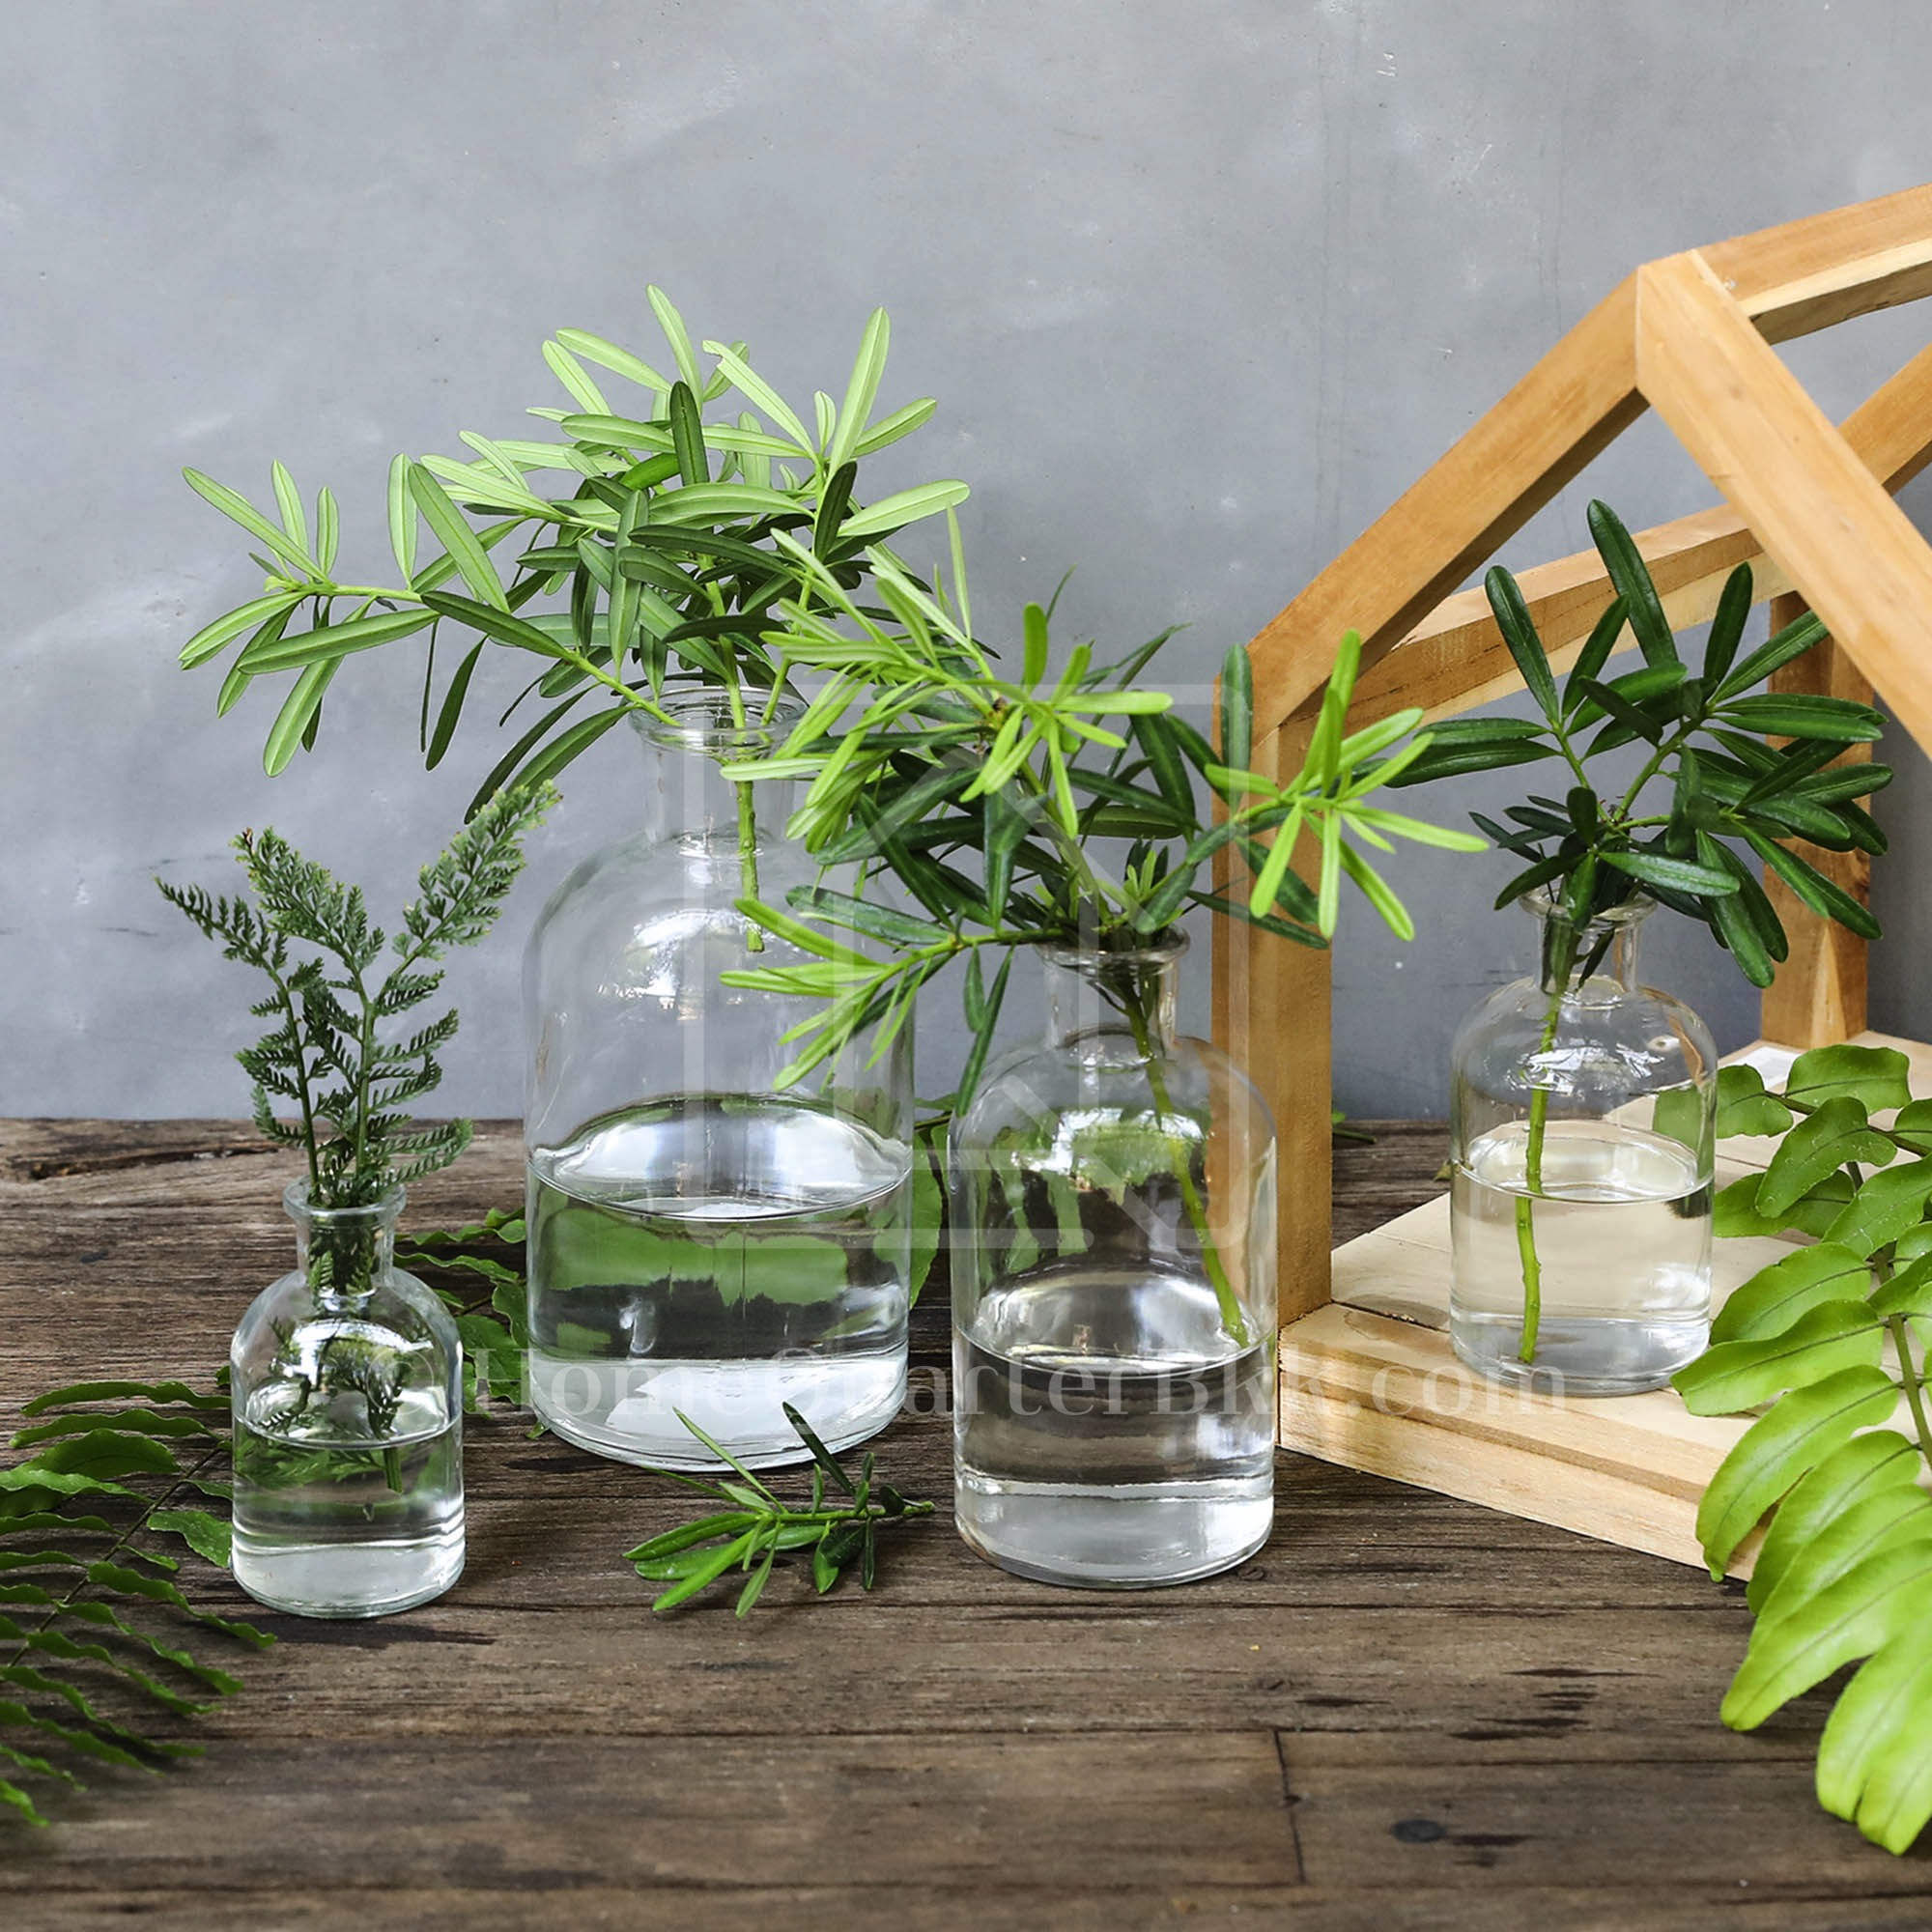glass_bottle: (517, 669, 927, 1467), (947, 913, 1311, 1594), (1433, 856, 1734, 1435), (223, 1173, 474, 1626)
